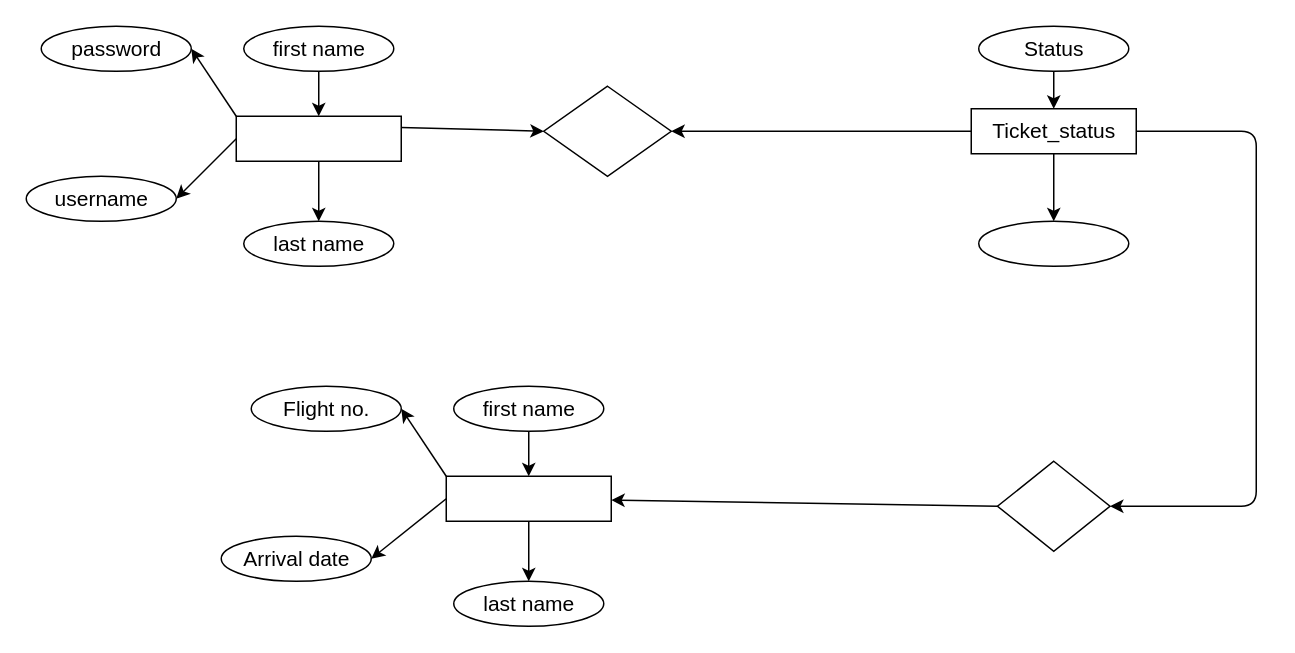
This 1295x653 diagram has some shape labels left out. The box of each missing label's shape, as (x1, y1, x2, y2) in pixels:
Booked: (996, 460, 1110, 551)
Flight: (445, 475, 611, 521)
Member: (235, 115, 401, 161)
Payement: (542, 85, 671, 176)
Ticket-id: (977, 220, 1129, 266)
